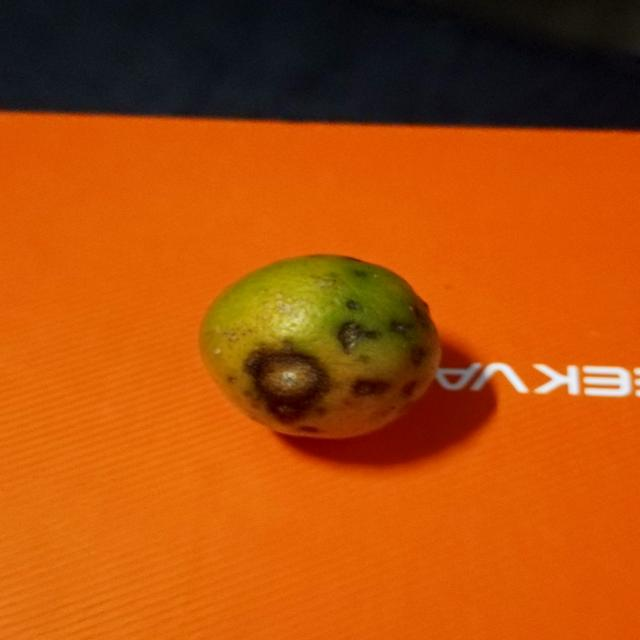black spot: (193, 247, 451, 446)
